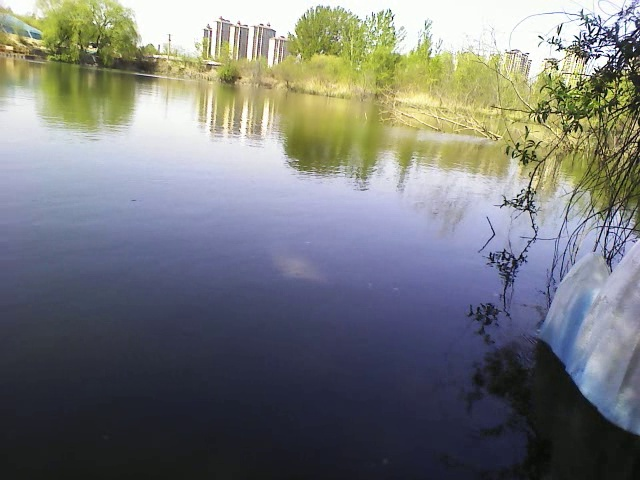iceberg: (535, 234, 639, 442)
